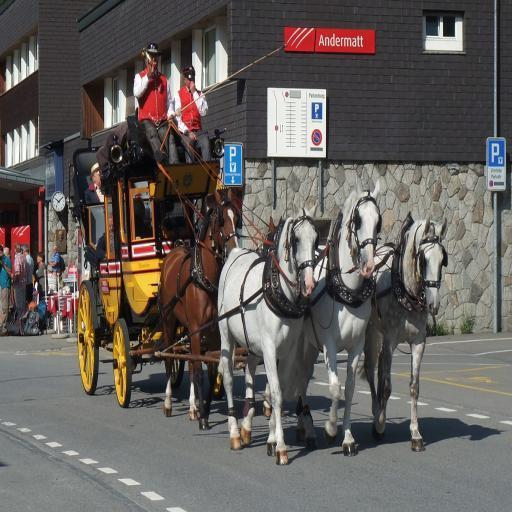horse: (286, 175, 382, 458), (218, 200, 320, 464), (355, 213, 450, 456), (156, 188, 242, 434)
